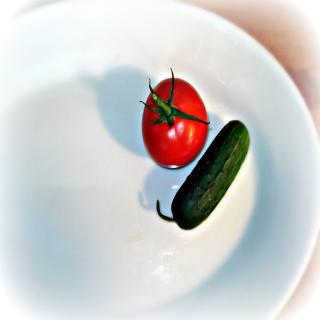tomato: (140, 70, 208, 173)
